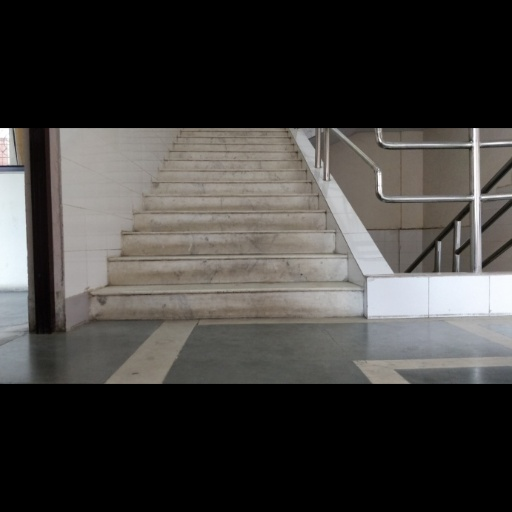Stairs: (91, 130, 363, 320)
